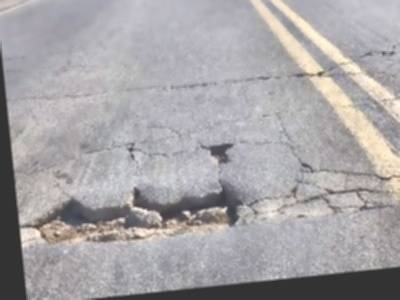pothole: (27, 173, 252, 251), (205, 139, 237, 166)
